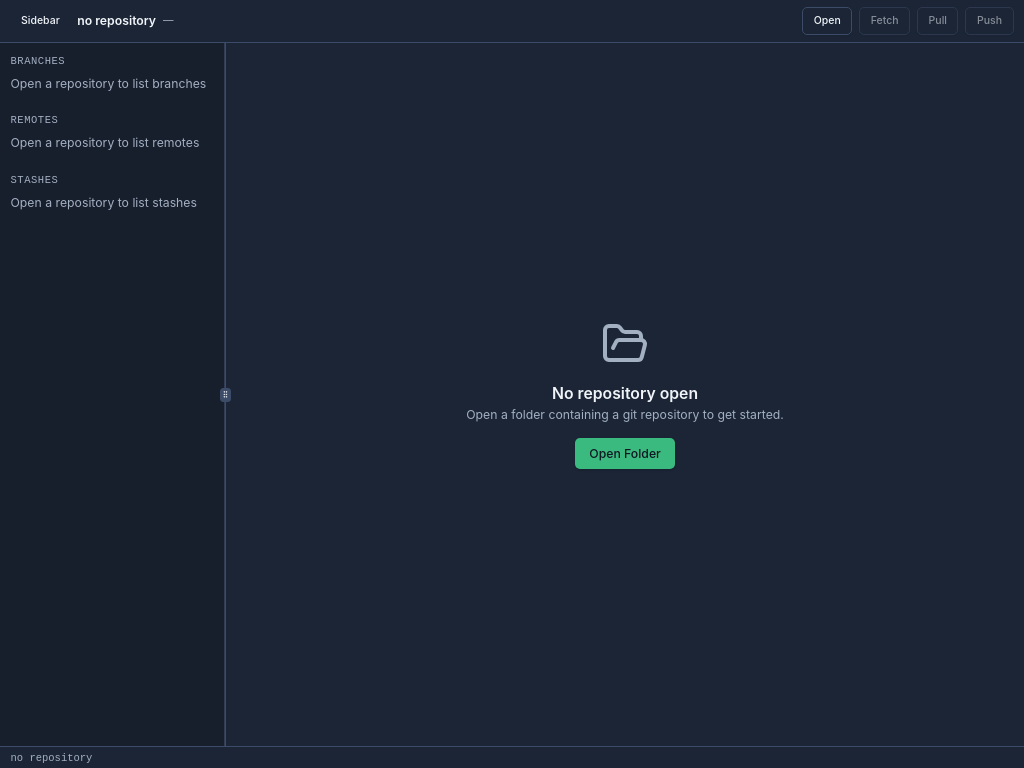
Test case: App shell › surfaces typed dialog failures
This screenshot has width=1024, height=768.
Click the button "Open Folder" at x=625, y=454, box 575,438 -> 675,469
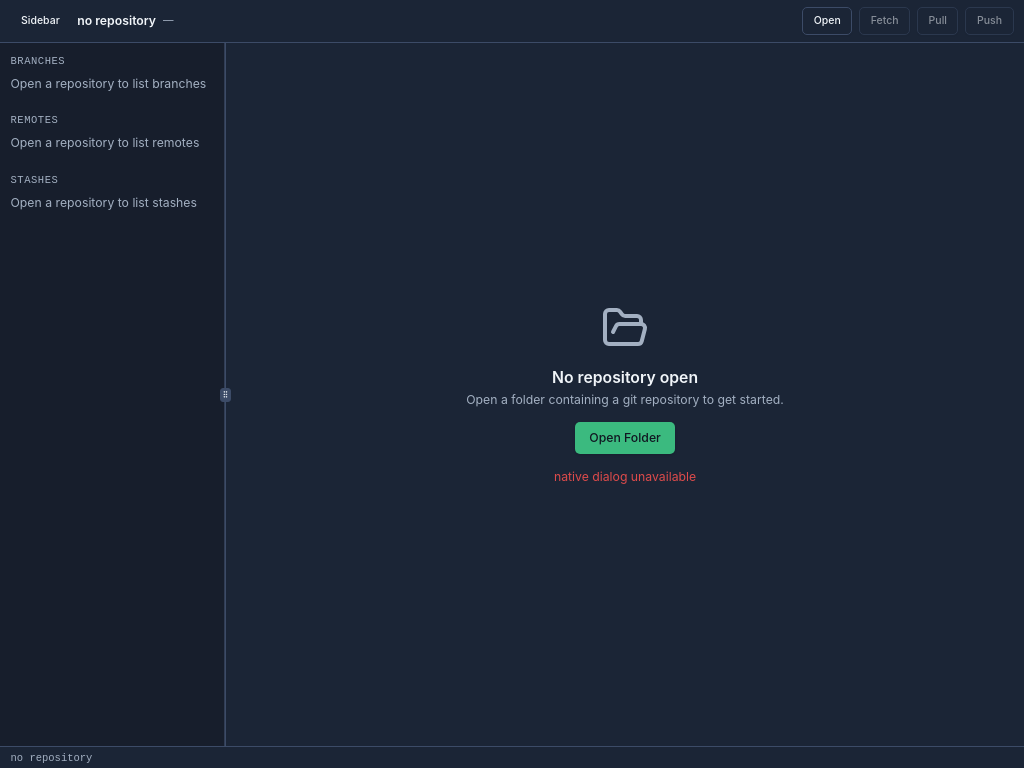
Expected: the text with test id "open-error" reads "native dialog unavailable", 554,468 -> 696,484
